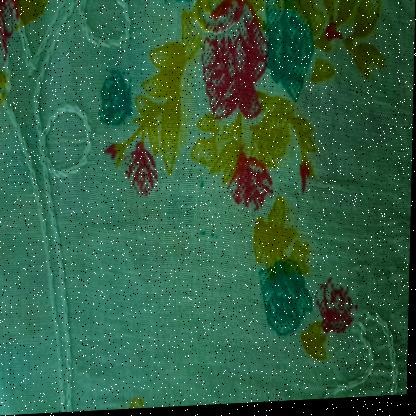spot: (210, 231, 220, 246), (200, 228, 209, 241), (199, 182, 206, 196)
